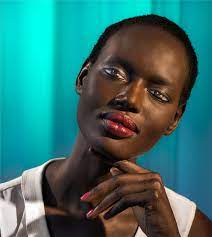eye: (148, 84, 172, 104), (101, 62, 126, 81)
mouth: (99, 111, 138, 136)
